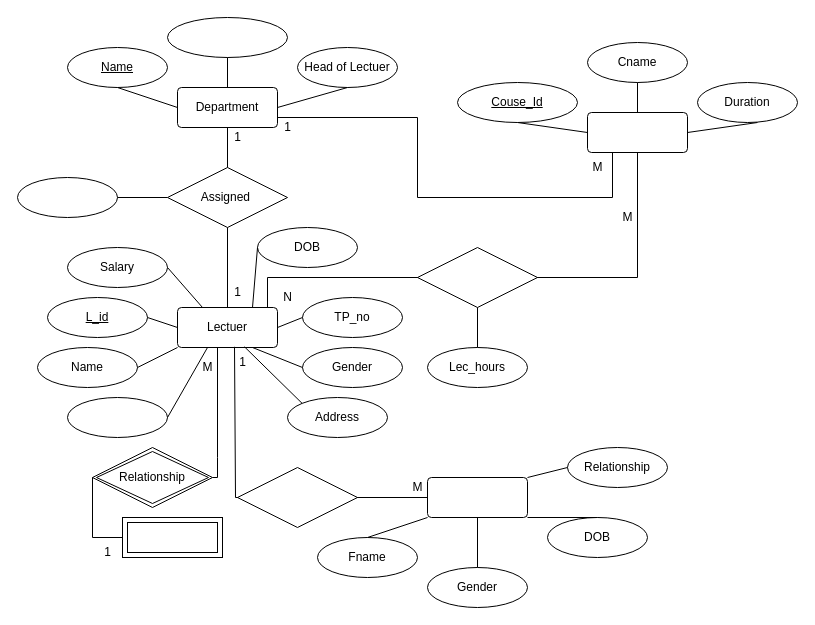
Image size: 815x625. Some labels were removed from this diagram. The shapes that lost their labels are listed below. From the top down, each one's box as (x1, y1, x2, y2) in pixels, then its label:
(166, 16, 288, 58): D_id
(586, 112, 688, 152): Couse
(16, 176, 118, 218): Start Date
(416, 246, 538, 308): Teach
(66, 396, 168, 438): Designation
(236, 466, 358, 528): Keep
(426, 476, 528, 518): Familiy
(122, 516, 222, 558): Advisors
